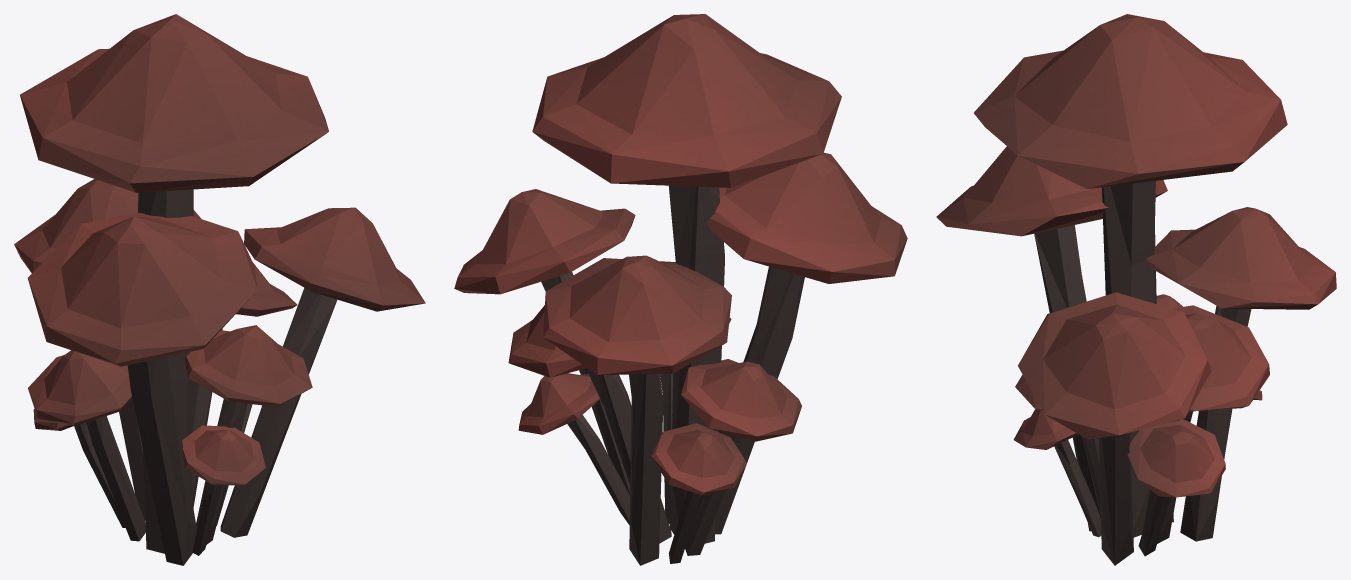
Rendered from Mush_1D.fbx.
3 renders of one model, left to right at view 1: azimuth 30°, elevation 25°; view 2: azimuth 150°, elevation 25°; view 3: azimuth 270°, elevation 25°, orthographic.
Visible parts, largest first — view 1: polySurface1314; view 2: polySurface1314; view 3: polySurface1314.
Part boxes in pixels (bbox=[...]): polySurface1314: bbox=[14, 14, 425, 565]; polySurface1314: bbox=[454, 14, 907, 565]; polySurface1314: bbox=[936, 14, 1336, 565].
Size of the model in its own units: 1.34 by 1.69 by 1.18.
